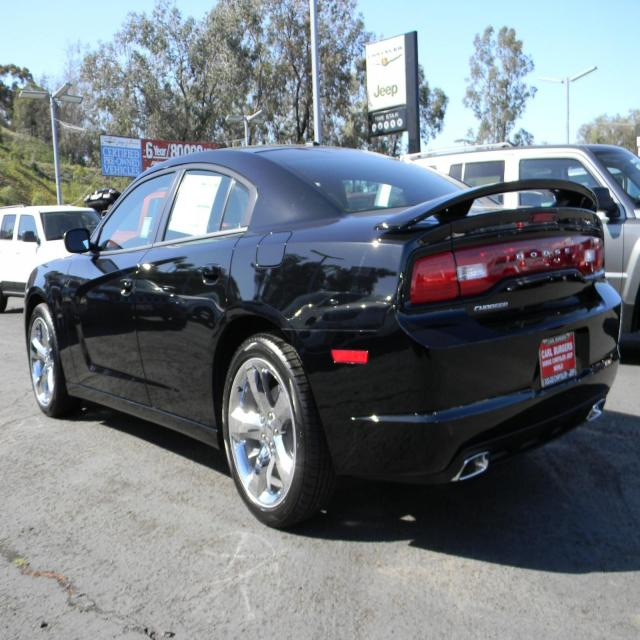Car: (19, 143, 628, 527)
